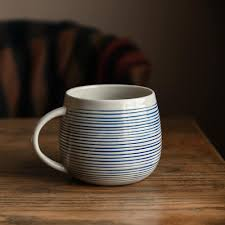mug: (16, 76, 175, 195)
